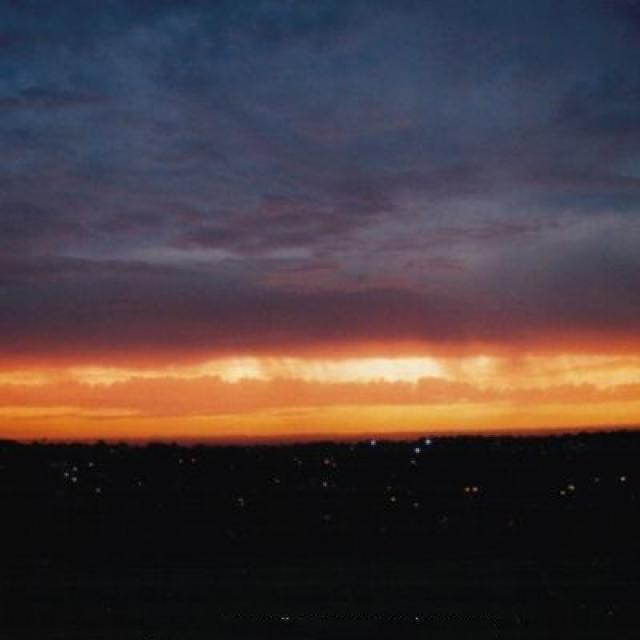As: (1, 39, 640, 421)
